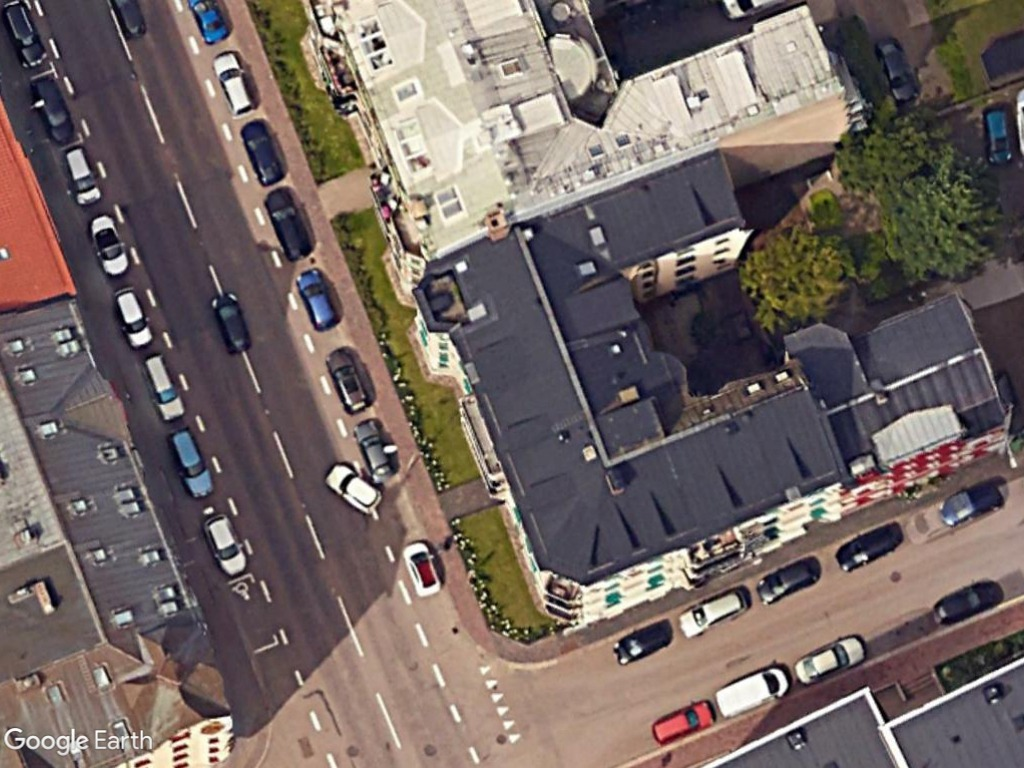car: (160, 428, 220, 506), (262, 184, 317, 269), (786, 631, 866, 686), (319, 341, 375, 416), (827, 518, 901, 574), (676, 586, 751, 641), (209, 43, 259, 122), (291, 262, 344, 334), (29, 71, 79, 146), (201, 508, 253, 579), (936, 476, 1007, 528), (321, 460, 386, 516), (142, 351, 190, 426), (236, 114, 286, 186), (647, 694, 717, 745), (0, 0, 50, 71), (752, 554, 821, 605), (398, 532, 448, 601), (609, 616, 674, 669), (932, 577, 998, 628), (208, 289, 257, 357), (88, 212, 135, 281), (108, 285, 157, 350), (352, 420, 399, 486), (63, 143, 106, 208)
van: (712, 660, 794, 718)
